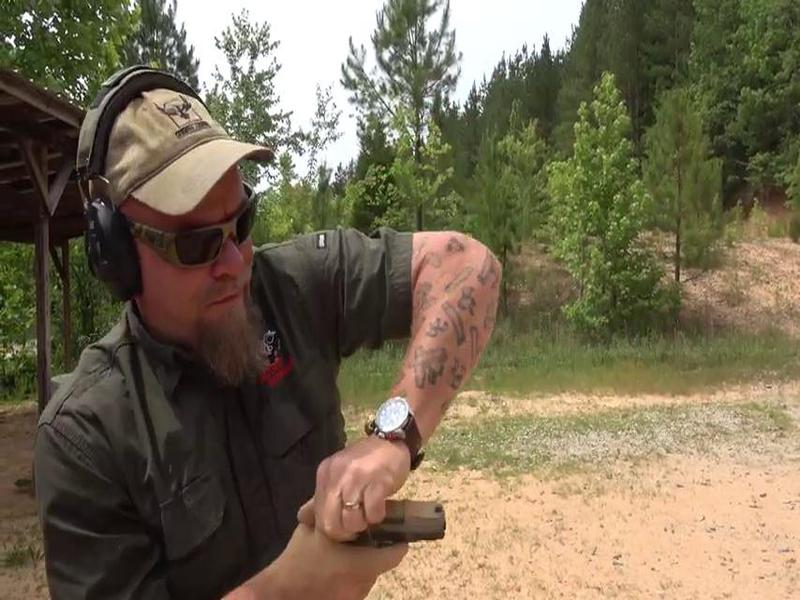Pistola: (313, 480, 463, 600)
